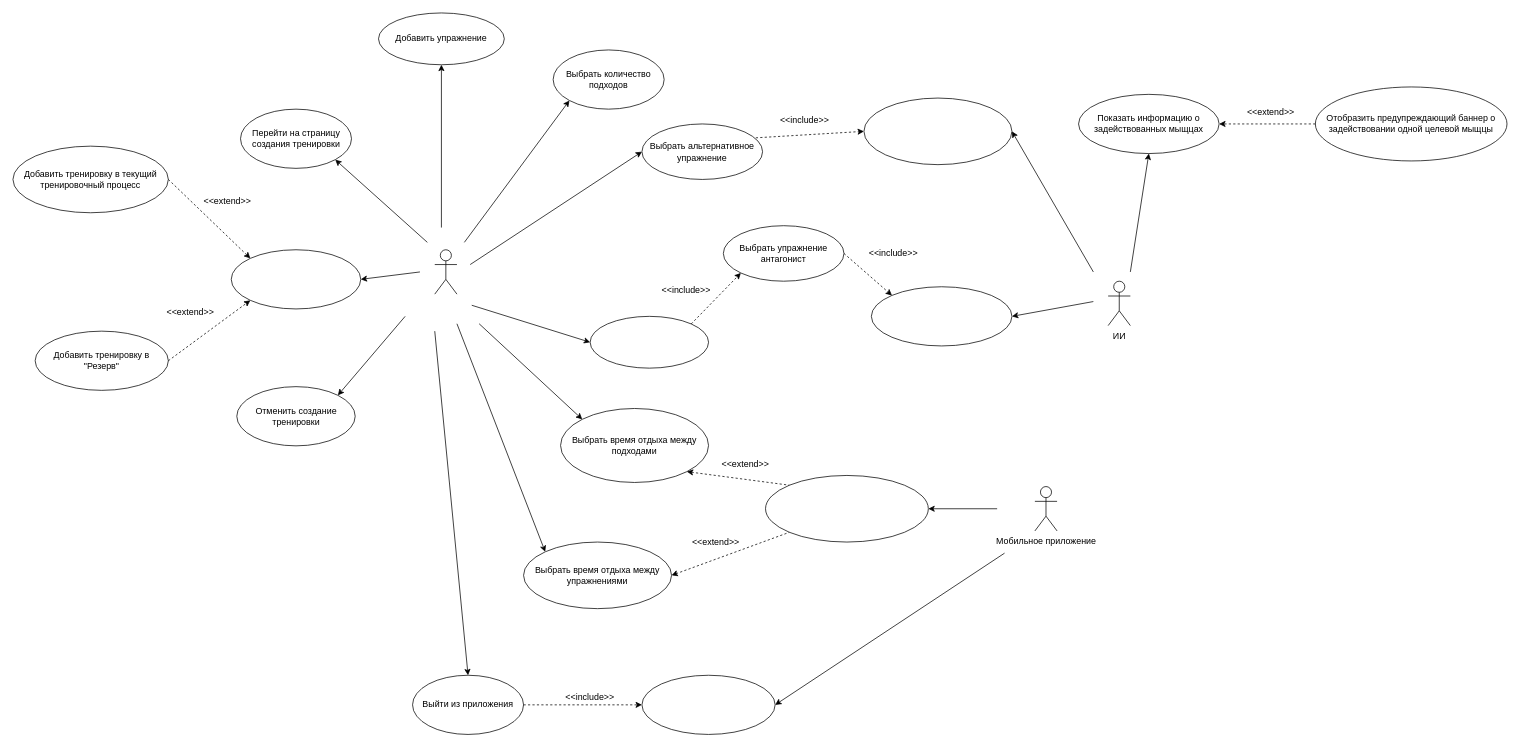
This 1520x747 diagram has some shape labels left out. The shapes that lost their labels are listed below. From the top down, each one's centre as x and y in pixels, then its label:
point (937, 131): Предложить альтернативное упражнение
point (296, 279): Сохранить тренировку
point (445, 271): Пользователь
point (941, 316): Предложить упражнение антагонист
point (649, 342): Создание суперсета
point (846, 508): Отображение баннера об опасном времени отдыха
point (708, 704): Сохранить тренировку в "Черновик"
